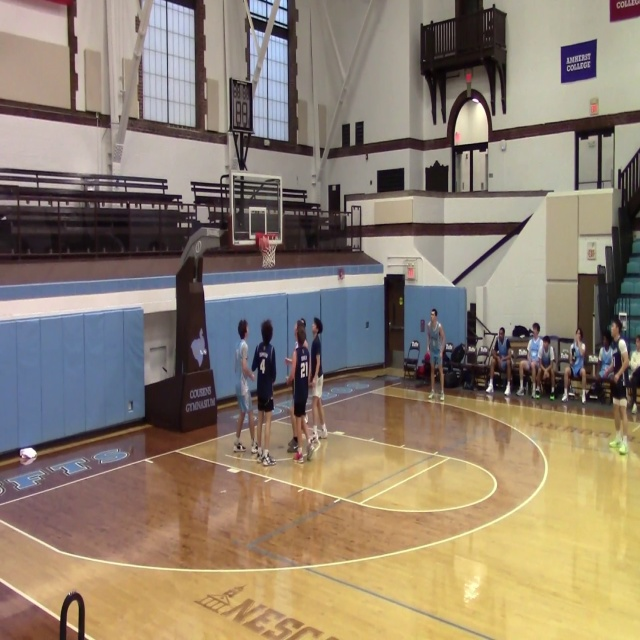Basketball: (19, 447, 37, 465), (619, 443, 627, 454)
